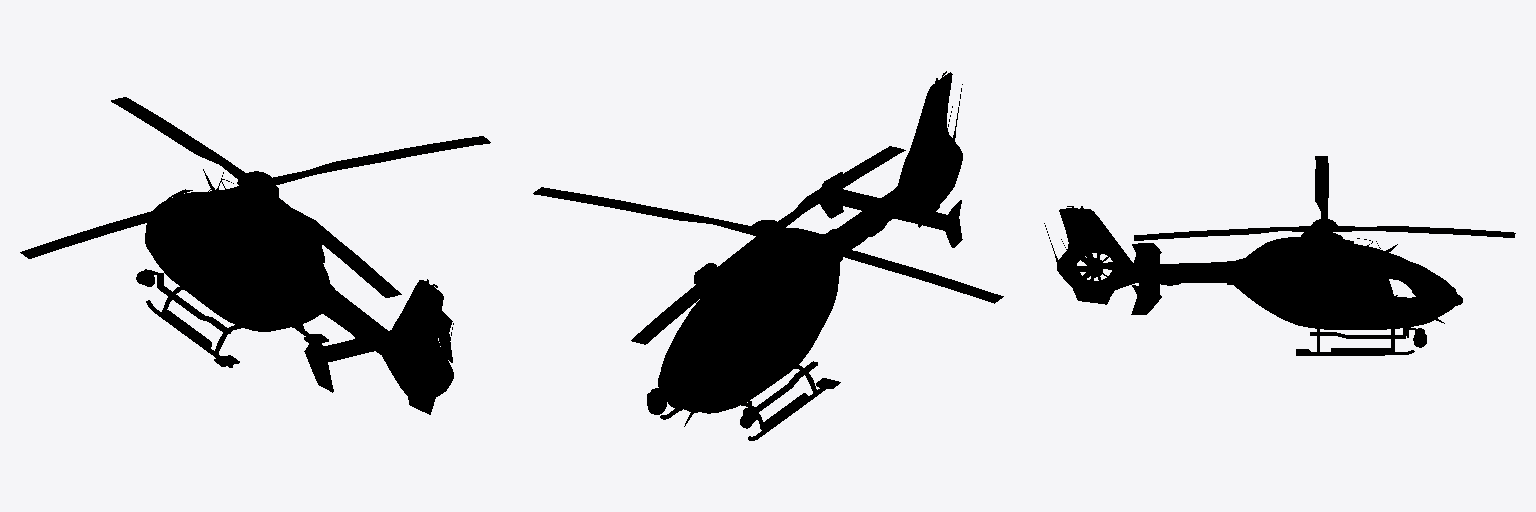
robot.urdf — helicopter:
<?xml version="1.0" ?>
<robot name="helicopter">
  <link name="baseLink">
    <contact>
      <lateral_friction value="1.0"/>
      <rolling_friction value="0.0"/>
      <contact_cfm value="0.0"/>
      <contact_erp value="1.0"/>
    </contact>
    <inertial>
      <origin rpy="0 0 0" xyz="0.0225 0.000 0.0047"/>
       <mass value="0.30"/>
       <inertia ixx="0.00012333" ixy="-0.0" ixz="-0.0" iyy="0.00005145" iyz="0.00000007" izz="0.00012910"/>
    </inertial>
    <visual>
      <origin rpy="0 0 0" xyz="0.0225 0.000 0.0047"/>
      <geometry>
        <mesh filename="../obj/helicopter.obj" scale="0.003 0.003 0.003"/>
      </geometry>
       <material name="black">
        <color rgba="0 0 0 1"/>
      </material>
    </visual>
    <collision concave="yes">
      <origin rpy="0 0 0" xyz="0.0225 0.000 0.0047"/>
      <geometry>
	 	<mesh filename="../obj/helicopter.obj" scale="0.003 0.003 0.003"/>
      </geometry>
    </collision>
  </link>
</robot>

--- Render facts (derived) ---
Views: 3 orthographic renders of the robot side by side, from view 1: azimuth 30°, elevation 25°; view 2: azimuth 150°, elevation 25°; view 3: azimuth 270°, elevation 25°.
Model helicopter with 1 links and 0 joints (none), rooted at baseLink, posed all joints at 0.
Visible links, largest first — view 1: baseLink; view 2: baseLink; view 3: baseLink.
Boxes of the visible links, bbox=[...] form: baseLink: bbox=[20, 97, 490, 414]; baseLink: bbox=[533, 71, 1003, 440]; baseLink: bbox=[1044, 156, 1515, 355].
Size in the robot's own frame: 0.305 by 0.3771 by 0.1186 metres.
1 mesh visuals loaded from 1 distinct referenced files (1 OBJ).
